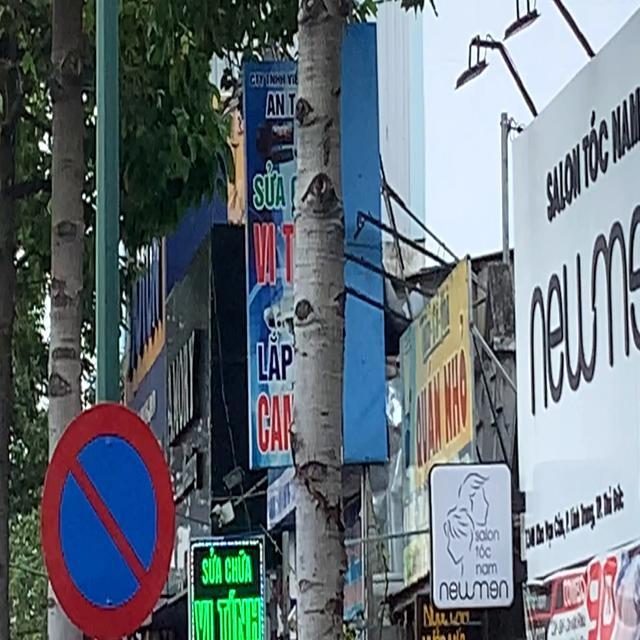P-131a: (41, 401, 175, 640)
